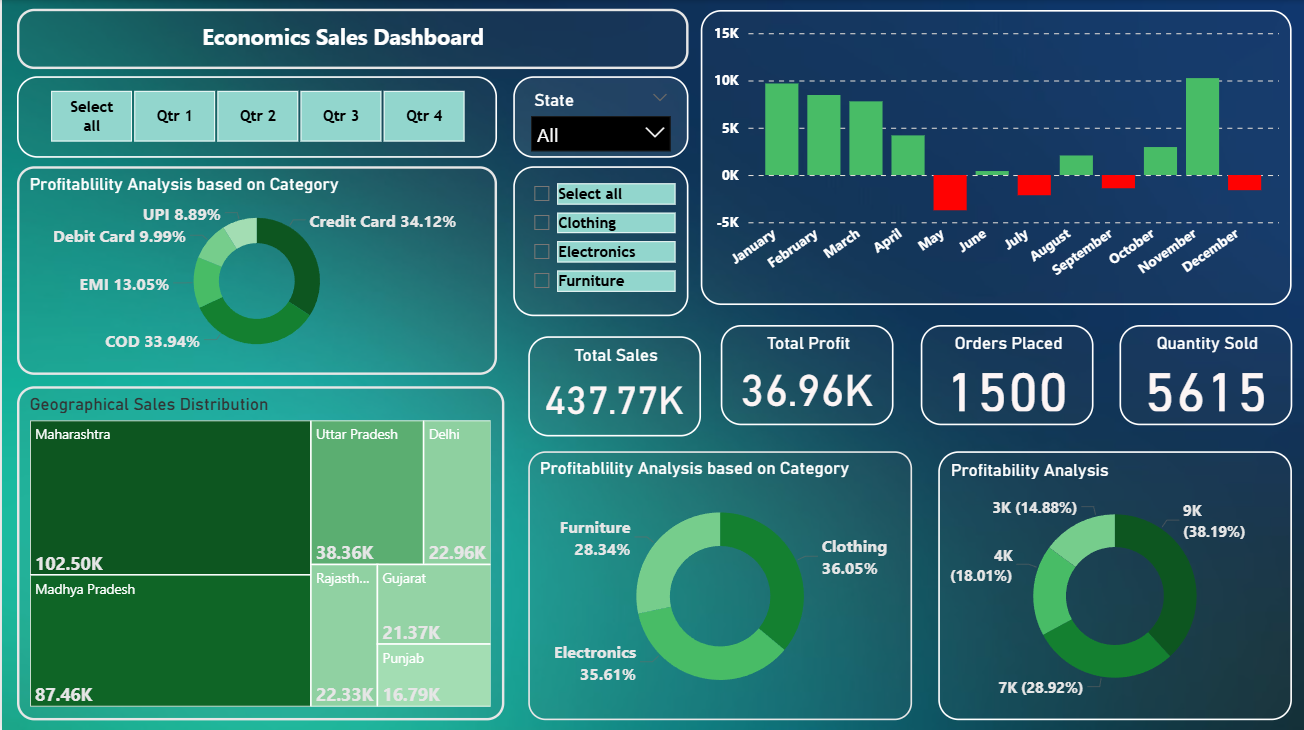

The dashboard page shown, as its layout file describes it:
{"tool":"powerbi","page":{"name":"Page 1","canvas":[1280,720],"ordinal":0},"visuals":[{"type":"textbox","box":[14.7,8.6,658.9,58.9],"z":0},{"type":"columnChart","title":"Profits per Month","fields":{"Category":["Orders.Order Date.Variation.Date Hierarchy.Month"],"Y":["Sum(Details.Profit)"]},"box":[685.9,9.8,580.4,289.6],"z":1000},{"type":"donutChart","title":"Profitability Analysis","fields":{"Category":["Details.Sub-Category"],"Y":["Sum(Details.Profit)"]},"box":[919,442.9,347.2,263.8],"z":2000},{"type":"treemap","title":"Geographical Sales Distribution","fields":{"Group":["Orders.State"],"Values":["Sum(Details.Amount)"]},"box":[14.7,379.1,478.5,327.6],"z":3000},{"type":"donutChart","title":"Profitablility Analysis based on Category","fields":{"Y":["Sum(Details.Profit)"],"Category":["Details.Category"]},"box":[516.6,442.9,376.7,263.8],"z":4000},{"type":"donutChart","title":"Profitablility Analysis based on Category","fields":{"Y":["Sum(Details.Profit)"],"Category":["Details.PaymentMode"]},"box":[14.7,163.2,471.2,204.9],"z":5000},{"type":"card","title":"Total Sales","fields":{"Values":["Sum(Details.Amount)"]},"box":[516.6,330.1,169.3,98.2],"z":6000},{"type":"card","title":"Total Profit","fields":{"Values":["Sum(Details.Profit)"]},"box":[705.5,319,169.3,98.2],"z":7000},{"type":"card","title":"Quantity Sold","fields":{"Values":["Sum(Details.Quantity)"]},"box":[1096.9,319,169.3,98.2],"z":8000},{"type":"card","title":"Orders Placed","fields":{"Values":["CountNonNull(Details.Order ID)"]},"box":[901.8,319,169.3,98.2],"z":9000},{"type":"slicer","fields":{"Values":["Orders.Order Date.Variation.Date Hierarchy.Quarter"]},"box":[14.7,74.8,471.2,79.8],"z":10000},{"type":"slicer","fields":{"Values":["Orders.State"]},"box":[501.8,74.8,171.8,79.8],"z":11000},{"type":"slicer","fields":{"Values":["Details.Category"]},"box":[501.8,163.2,171.8,147.2],"z":12000}]}

Visuals, with their boxes in screenshot pixels (x1, y1, x2, y2), scaled from the page's 1280x720 canvas onto the 1304x730 screenshot:
textbox: detection(15, 9, 686, 68)
"Profits per Month" columnChart: detection(699, 10, 1290, 304)
"Profitability Analysis" donutChart: detection(936, 449, 1290, 717)
"Geographical Sales Distribution" treemap: detection(15, 384, 502, 717)
"Profitablility Analysis based on Category" donutChart: detection(526, 449, 910, 717)
"Profitablility Analysis based on Category" donutChart: detection(15, 165, 495, 373)
"Total Sales" card: detection(526, 335, 699, 434)
"Total Profit" card: detection(719, 323, 891, 423)
"Quantity Sold" card: detection(1117, 323, 1290, 423)
"Orders Placed" card: detection(919, 323, 1091, 423)
slicer - Orders.Order Date.Variation.Date Hierarchy.Quarter: detection(15, 76, 495, 157)
slicer - Orders.State: detection(511, 76, 686, 157)
slicer - Details.Category: detection(511, 165, 686, 315)
